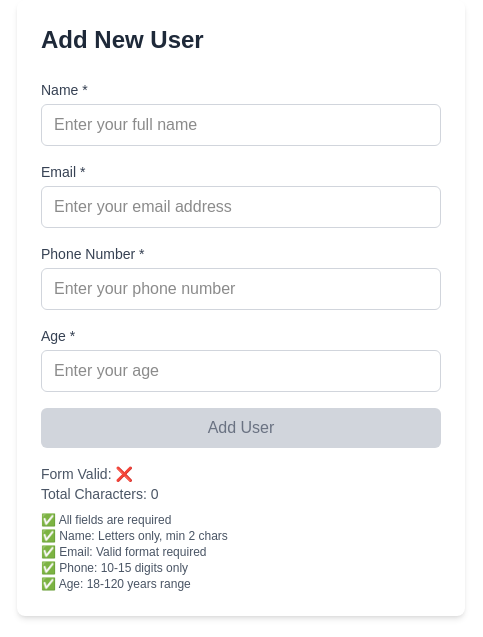
Test: UserForm Component - Working Tests Only › manages form submission state and prevents double submissions
# Fill form with valid data
Type "John Doe" into the field labelled "Name *" at (241, 125), box [41,104,441,146]
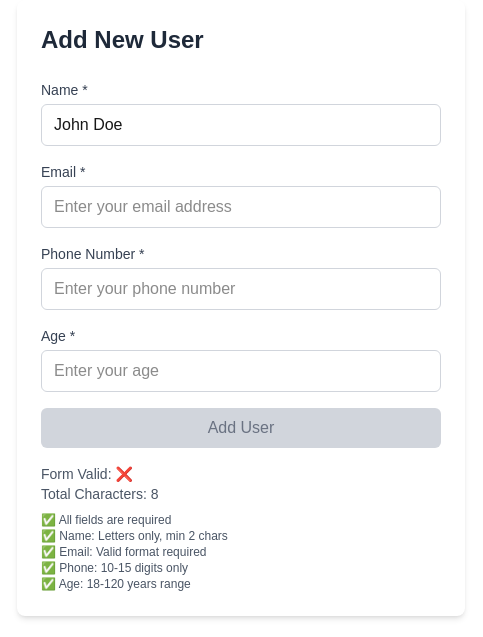
Type "john@example.com" into the field labelled "Email *" at (241, 207), box [41,186,441,228]
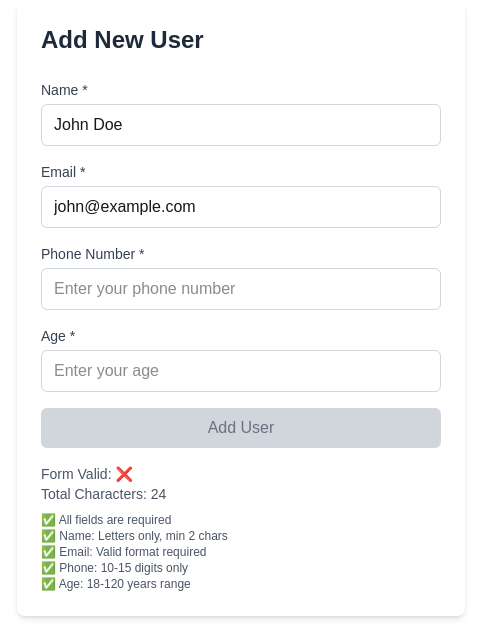
Type "1234567890" into the field labelled "Phone Number *" at (241, 289), box [41,268,441,310]
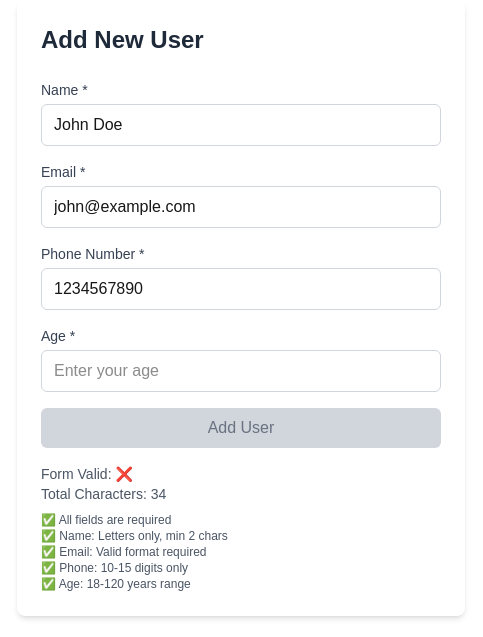
Type "25" into the number field labelled "Age *" at (241, 371), box [41,350,441,392]
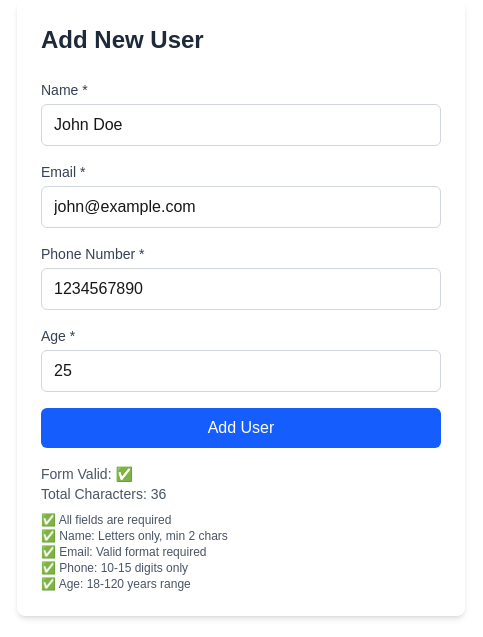
# Submit form
Click the button "Add User" at (241, 428), box [41,408,441,448]
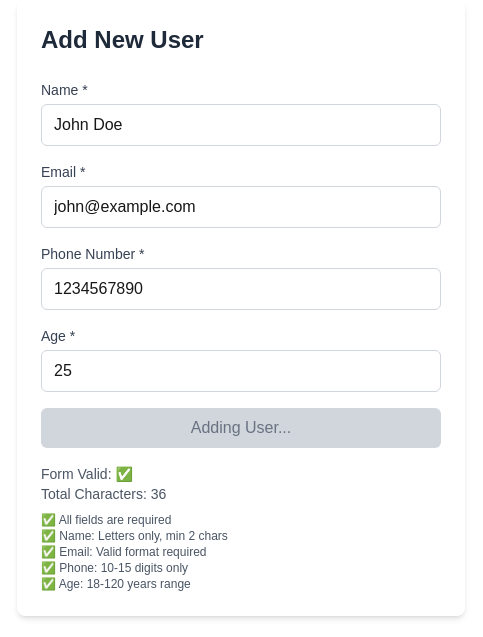
Expected: the button "Adding User..." is shown, [41,408,441,448]
